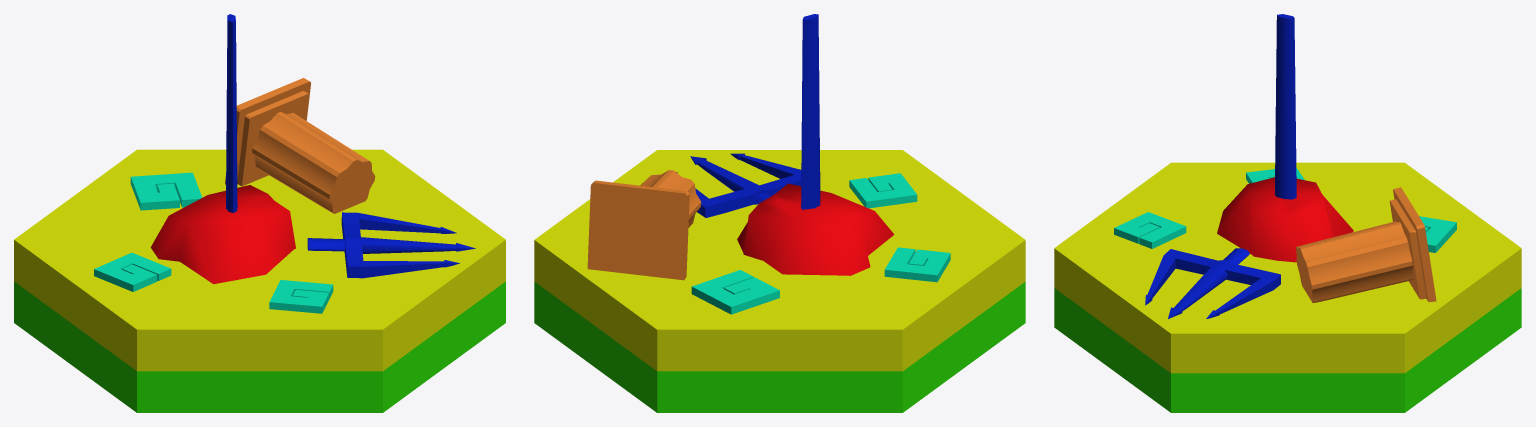
File: HexagonNonconstructible4.fbx
3 renders of one model, left to right at view 1: azimuth 30°, elevation 25°; view 2: azimuth 150°, elevation 25°; view 3: azimuth 270°, elevation 25°, orthographic. The views are drawn at different scales.
Visible parts, largest first — view 1: Circle, Cylinder.002, Rock, Icons, Cylinder.001, Cylinder; view 2: Circle, Cylinder.002, Rock, Icons, Cylinder, Cylinder.001; view 3: Circle, Cylinder.002, Rock, Cylinder.001, Cylinder, Icons.
Part boxes in pixels (box(x1,y1,x2,y2)): Circle: box(14, 149, 505, 412); Cylinder.002: box(225, 78, 375, 213); Rock: box(150, 185, 295, 284); Icons: box(94, 172, 333, 313); Cylinder.001: box(307, 212, 475, 278); Cylinder: box(226, 14, 237, 212); Circle: box(534, 150, 1025, 412); Cylinder.002: box(587, 170, 701, 280); Rock: box(737, 183, 894, 275); Icons: box(691, 173, 950, 314); Cylinder: box(801, 14, 820, 209); Cylinder.001: box(676, 153, 801, 217); Circle: box(1054, 162, 1521, 412); Cylinder.002: box(1296, 187, 1436, 302); Rock: box(1217, 177, 1353, 262); Cylinder.001: box(1145, 248, 1280, 318); Cylinder: box(1274, 14, 1296, 199); Icons: box(1114, 167, 1456, 252).
Size of the model in its own units: 173 by 140 by 200.
